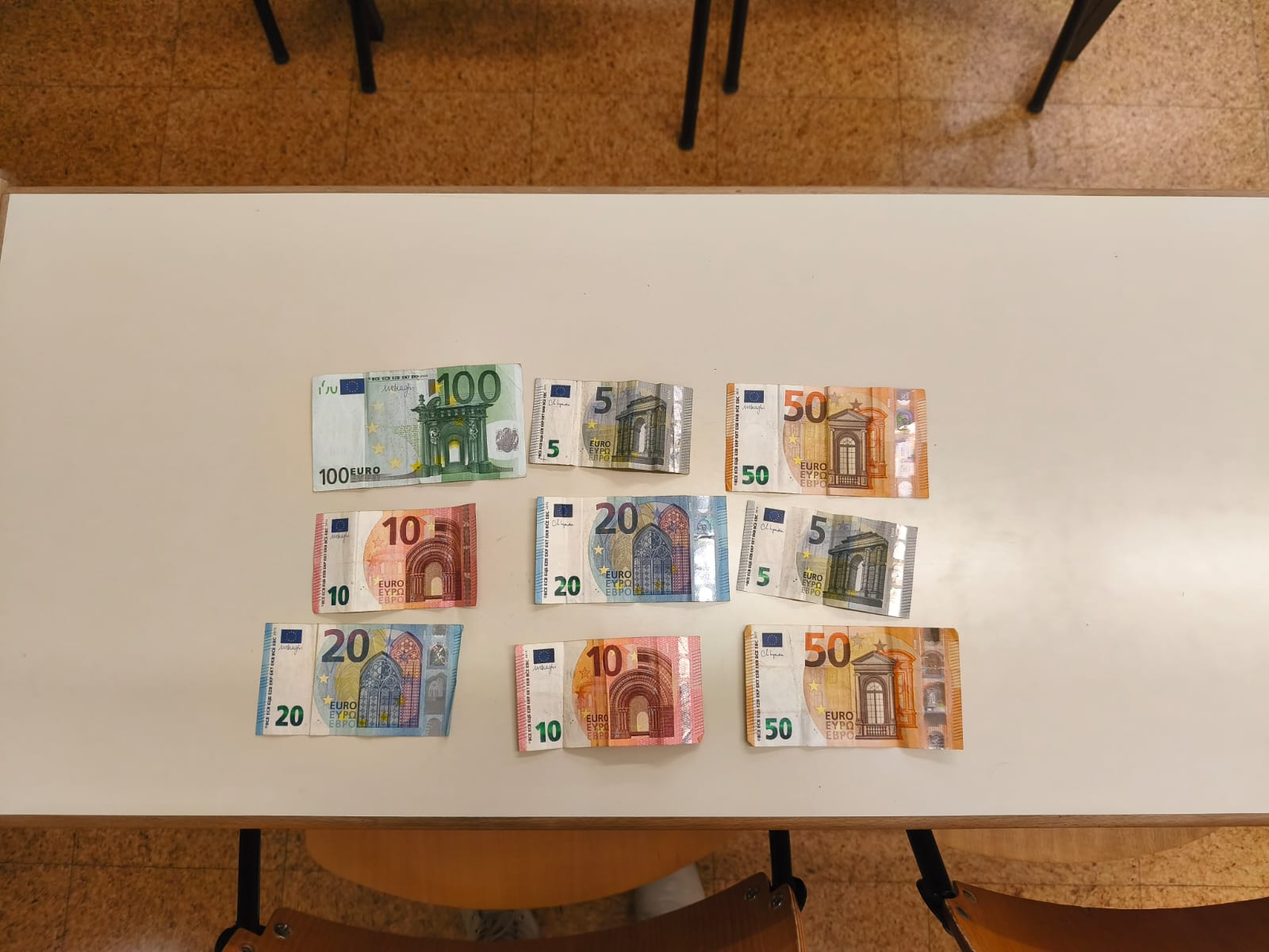Nota de 100€: (304, 373, 521, 494)
Nota de 10€: (510, 642, 704, 753), (306, 511, 477, 616)
Nota de 20€: (251, 621, 470, 740), (534, 494, 732, 605)
Nota de 50€: (744, 620, 968, 749), (727, 381, 934, 491)
Nota de 5€: (749, 498, 923, 598), (536, 374, 696, 464)
